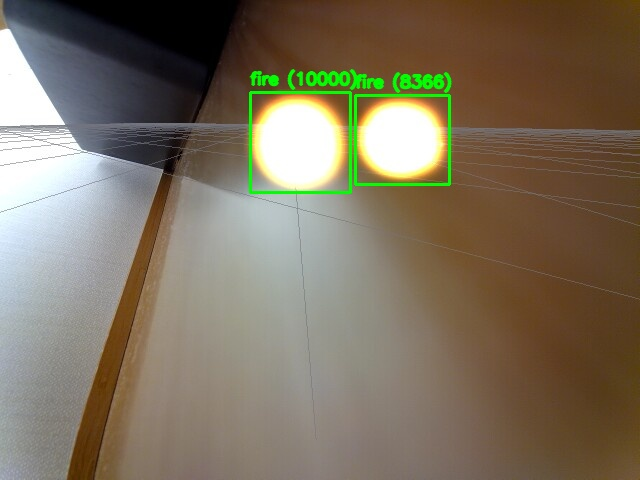fire: (250, 92, 350, 192), (355, 95, 449, 184)
